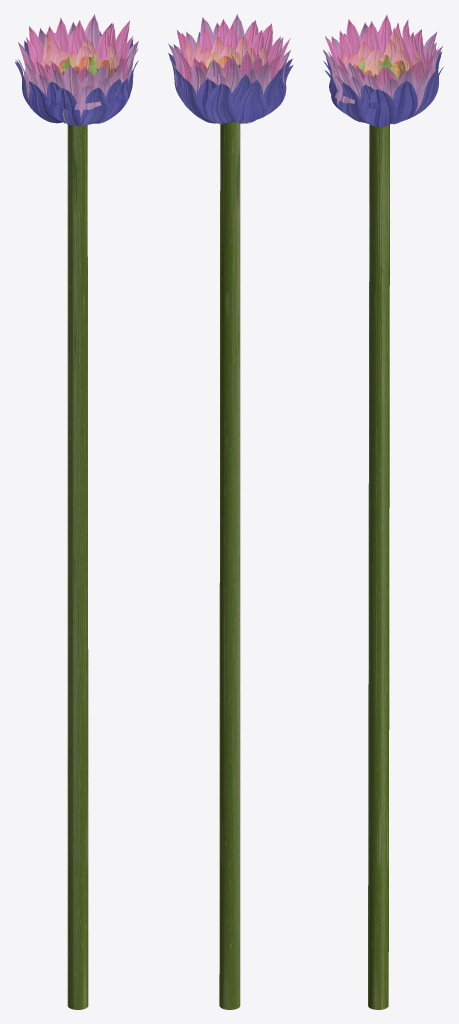
The model's file is flor_04.fbx.
3 views of the same model, side by side, from view 1: azimuth 30°, elevation 25°; view 2: azimuth 210°, elevation 25°; view 3: azimuth 330°, elevation 25° (orthographic).
Visible parts, largest first — view 1: Plane.068; view 2: Plane.068; view 3: Plane.068.
Boxes of the visible parts, x1,y1,x2,y2 form: Plane.068: (15, 14, 138, 1009); Plane.068: (168, 14, 293, 1009); Plane.068: (323, 14, 443, 1009).
Bounding box in the file's own units: 58.02 × 494 × 54.14.
2 materials, 2 textured.
